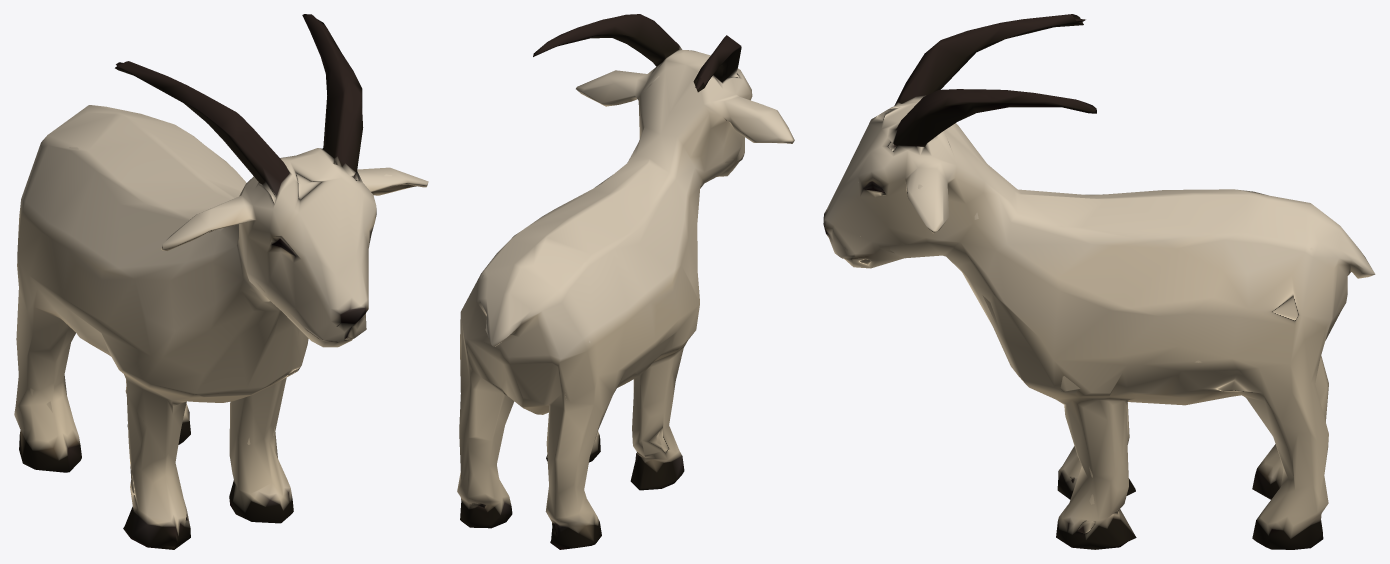
Rendered from gen3d-goat-lod0.glb.
The picture shows the model from 3 angles, left to right: view 1: azimuth 30°, elevation 25°; view 2: azimuth 150°, elevation 25°; view 3: azimuth 270°, elevation 25°; orthographic projection. The views are drawn at different scales.
Parts seen in each view (by area): view 1: part_0; view 2: part_0; view 3: part_0.
Part boxes in pixels (box(x1,y1,x2,y2)): part_0: box(14, 14, 428, 549); part_0: box(457, 14, 794, 549); part_0: box(823, 14, 1375, 549).
Size of the model in its own units: 0.5645 by 0.9992 by 1.09.
